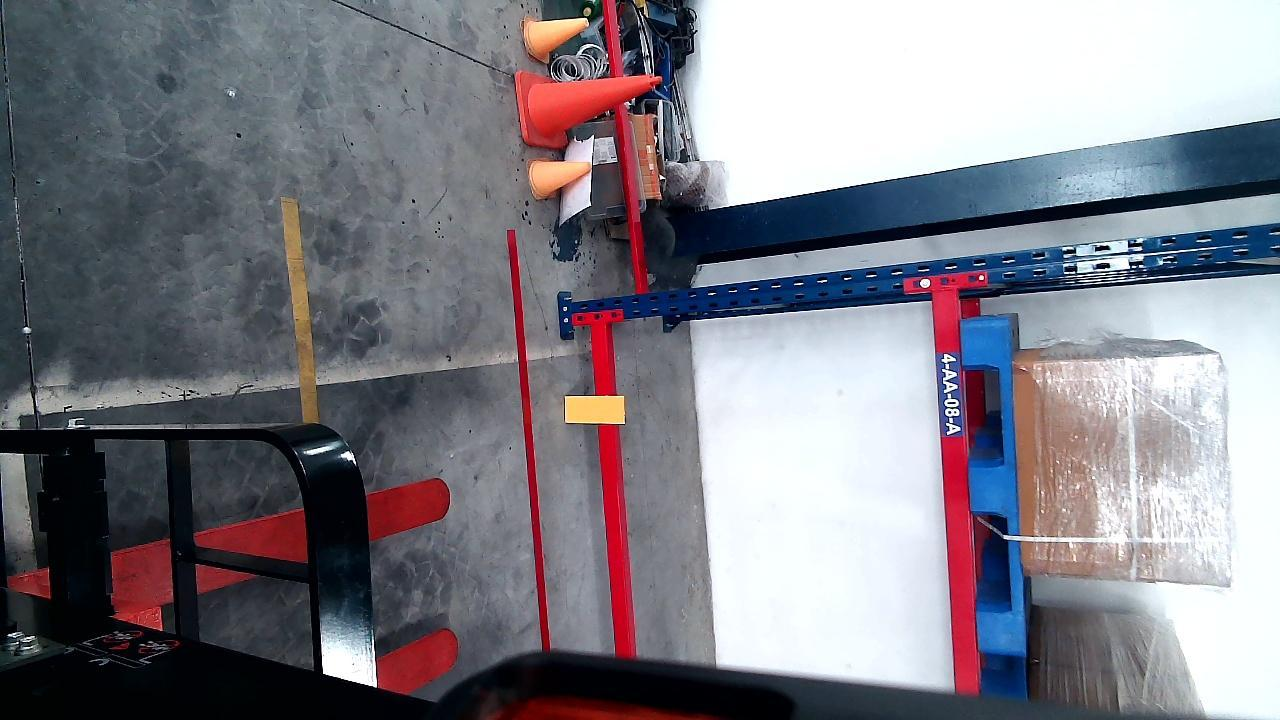red_line: (500, 226, 557, 648)
yellow_line: (281, 190, 321, 420)
